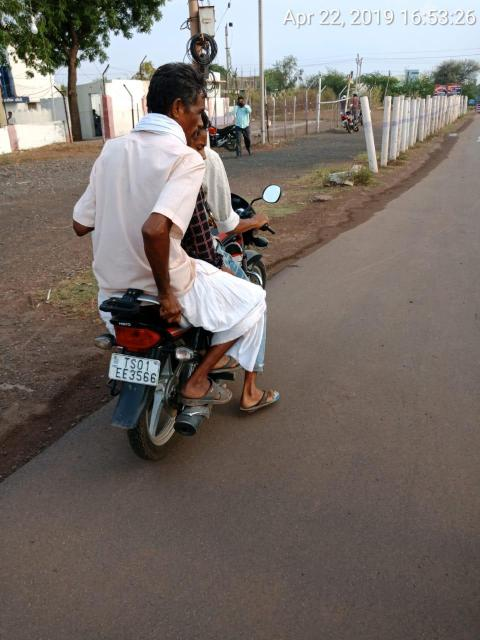motor: (97, 292, 215, 463)
non-helm: (147, 65, 208, 148)
